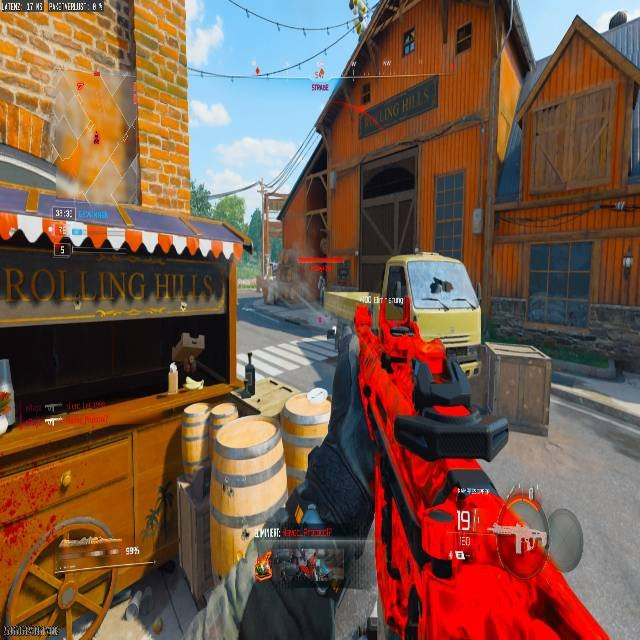head: (489, 498, 548, 575)
